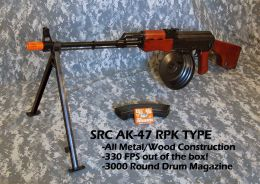rifle: (22, 21, 238, 112)
